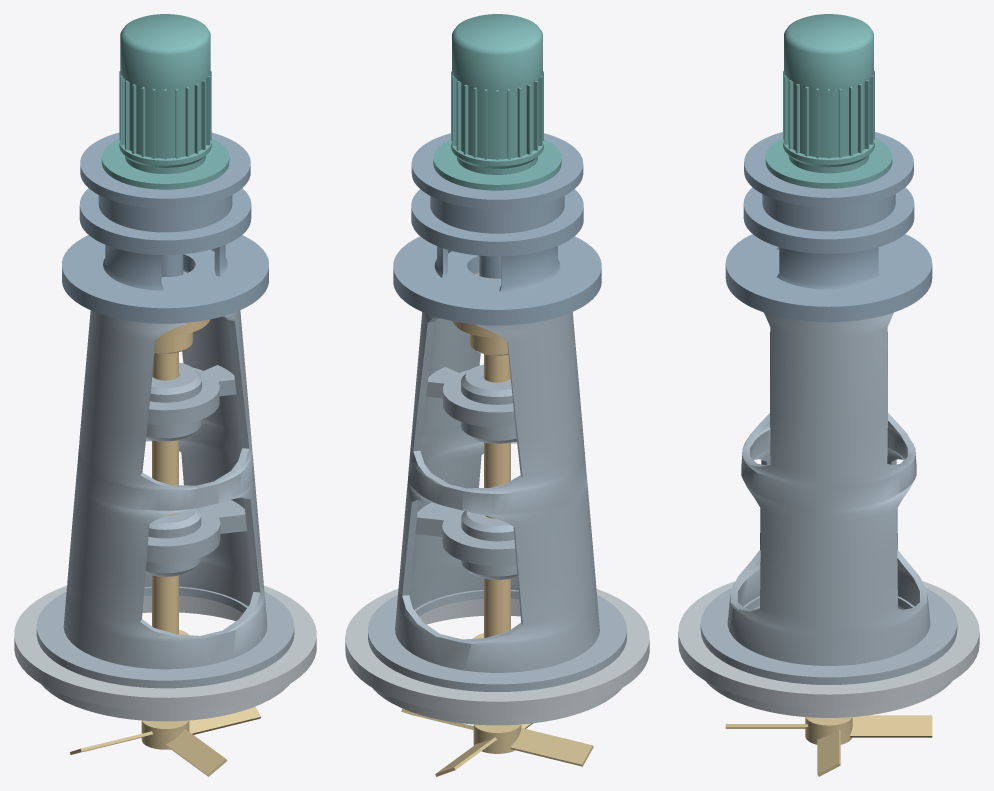
The model's file is 槽罐搅拌器_v0.3.glb.
3 renders of one model, left to right at view 1: azimuth 30°, elevation 25°; view 2: azimuth 150°, elevation 25°; view 3: azimuth 270°, elevation 25°, orthographic.
Parts seen in each view (by area): view 1: 06_Tapered_window_frame_with_bored_seats, 01_Motor, 07_Tank_interface_rim, 02_Base_flange_top, 06_Frame_foot, 02_Upper_mount_flange, 03_Intermediate_shaft, 02_Middle_flange_top, 07_Tank_interface_short_wall, 02_Upper_housing, 02_Lower_housing_2, 02_Base_flange_bottom (+4 smaller); view 2: 06_Tapered_window_frame_with_bored_seats, 01_Motor, 07_Tank_interface_rim, 02_Base_flange_top, 06_Frame_foot, 02_Upper_mount_flange, 03_Intermediate_shaft, 02_Middle_flange_top, 07_Tank_interface_short_wall, 02_Upper_housing, 02_Lower_housing_2, 02_Base_flange_bottom (+4 smaller); view 3: 06_Tapered_window_frame_with_bored_seats, 01_Motor, 07_Tank_interface_rim, 02_Base_flange_top, 06_Frame_foot, 02_Upper_mount_flange, 02_Middle_flange_top, 02_Lower_housing_1, 02_Upper_housing, 07_Tank_interface_short_wall, 05_Pitched_blade_2, 02_Base_flange_bottom (+3 smaller).
Boxes of the visible parts, left/top/right/bottom form: 06_Tapered_window_frame_with_bored_seats: left=63, top=270, right=267, bottom=669; 01_Motor: left=101, top=14, right=229, bottom=189; 07_Tank_interface_rim: left=14, top=585, right=316, bottom=711; 02_Base_flange_top: left=62, top=235, right=268, bottom=315; 06_Frame_foot: left=36, top=586, right=294, bottom=688; 02_Upper_mount_flange: left=80, top=132, right=250, bottom=208; 03_Intermediate_shaft: left=152, top=319, right=210, bottom=635; 02_Middle_flange_top: left=79, top=188, right=251, bottom=247; 07_Tank_interface_short_wall: left=41, top=595, right=289, bottom=721; 02_Upper_housing: left=98, top=195, right=232, bottom=232; 02_Lower_housing_2: left=103, top=245, right=163, bottom=290; 02_Base_flange_bottom: left=62, top=262, right=268, bottom=323; 06_Tapered_window_frame_with_bored_seats: left=395, top=271, right=599, bottom=672; 01_Motor: left=433, top=14, right=561, bottom=190; 07_Tank_interface_rim: left=345, top=589, right=649, bottom=715; 02_Base_flange_top: left=393, top=236, right=601, bottom=317; 06_Frame_foot: left=368, top=590, right=626, bottom=691; 02_Upper_mount_flange: left=411, top=133, right=583, bottom=209; 03_Intermediate_shaft: left=452, top=321, right=510, bottom=638; 02_Middle_flange_top: left=411, top=189, right=583, bottom=248; 07_Tank_interface_short_wall: left=372, top=598, right=621, bottom=725; 02_Upper_housing: left=430, top=196, right=564, bottom=233; 02_Lower_housing_2: left=499, top=246, right=560, bottom=292; 02_Base_flange_bottom: left=393, top=263, right=601, bottom=325; 06_Tapered_window_frame_with_bored_seats: left=727, top=312, right=930, bottom=665; 01_Motor: left=765, top=14, right=892, bottom=188; 07_Tank_interface_rim: left=678, top=581, right=979, bottom=708; 02_Base_flange_top: left=725, top=234, right=932, bottom=314; 06_Frame_foot: left=700, top=588, right=957, bottom=684; 02_Upper_mount_flange: left=744, top=132, right=913, bottom=207; 02_Middle_flange_top: left=743, top=187, right=914, bottom=246; 02_Lower_housing_1: left=776, top=247, right=881, bottom=289; 02_Upper_housing: left=762, top=194, right=895, bottom=231; 07_Tank_interface_short_wall: left=705, top=605, right=952, bottom=717; 05_Pitched_blade_2: left=849, top=715, right=932, bottom=737; 02_Base_flange_bottom: left=725, top=271, right=932, bottom=322.
Size of the model in its own units: 0.9096 by 2.35 by 0.9096.
